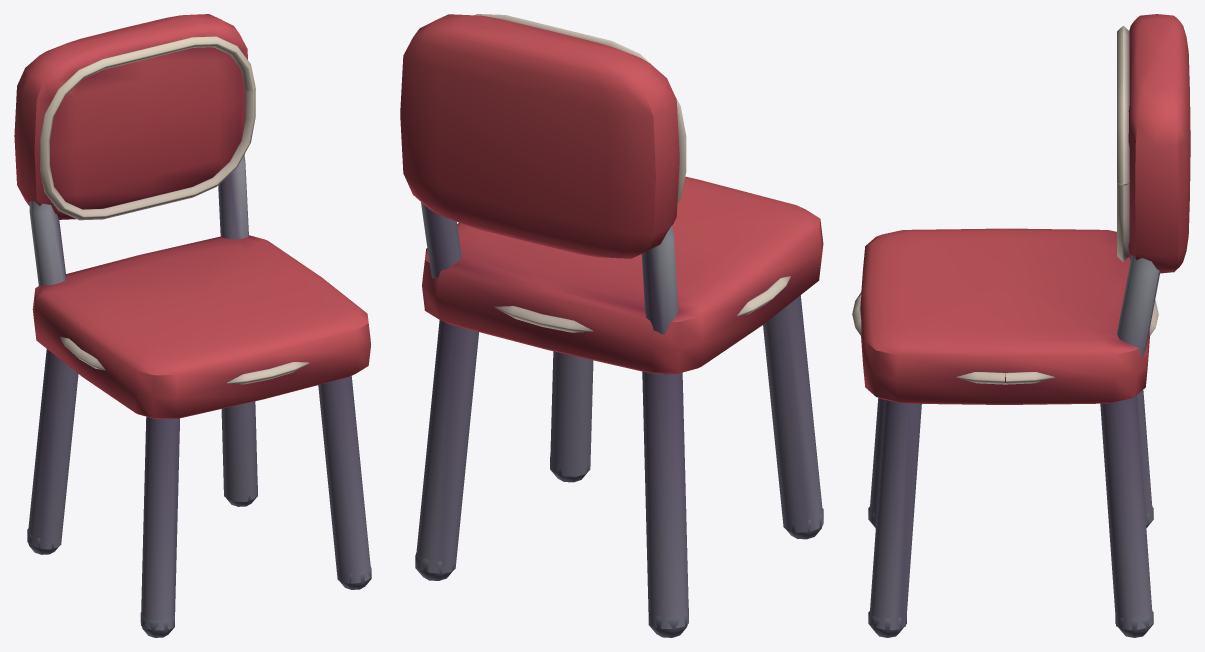
Rendered from chair_retro.glb.
3 renders of one model, left to right at view 1: azimuth 30°, elevation 25°; view 2: azimuth 150°, elevation 25°; view 3: azimuth 270°, elevation 25°, orthographic. The views are drawn at different scales.
Parts seen in each view (by area): view 1: chair_retro; view 2: chair_retro; view 3: chair_retro.
Boxes of the visible parts, x1,y1,x2,y2 form: chair_retro: (14,14,371,637); chair_retro: (400,14,823,637); chair_retro: (852,14,1190,637).
Bounding box in the file's own units: 0.566 × 1.05 × 0.603.
